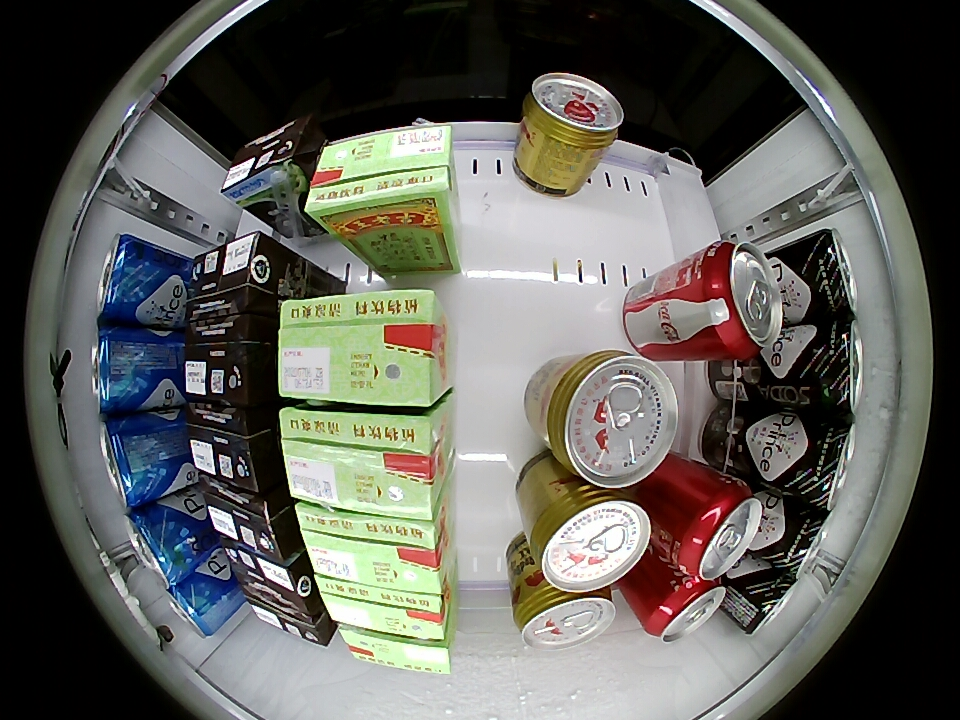hongniu: (521, 72, 625, 151)
hongniu2: (542, 349, 680, 489), (530, 485, 652, 592), (514, 583, 617, 650)
kele: (696, 240, 783, 357), (671, 481, 763, 581), (643, 575, 726, 643)
qingdaowangzi-1: (795, 417, 856, 510), (805, 319, 864, 413), (800, 228, 859, 319), (770, 502, 834, 577), (733, 568, 801, 635)
qingdaowangzi-2: (100, 413, 175, 508), (124, 503, 202, 588), (93, 326, 164, 414), (96, 233, 160, 325), (163, 573, 229, 637)
wanglaoji: (278, 289, 446, 409), (279, 405, 447, 520), (306, 123, 454, 234), (295, 502, 448, 593), (315, 575, 452, 639), (339, 625, 453, 675)
weitanai2: (187, 232, 287, 320), (220, 118, 313, 208), (183, 316, 275, 404), (185, 401, 275, 489), (201, 478, 296, 561), (224, 543, 319, 612), (242, 590, 335, 650)
